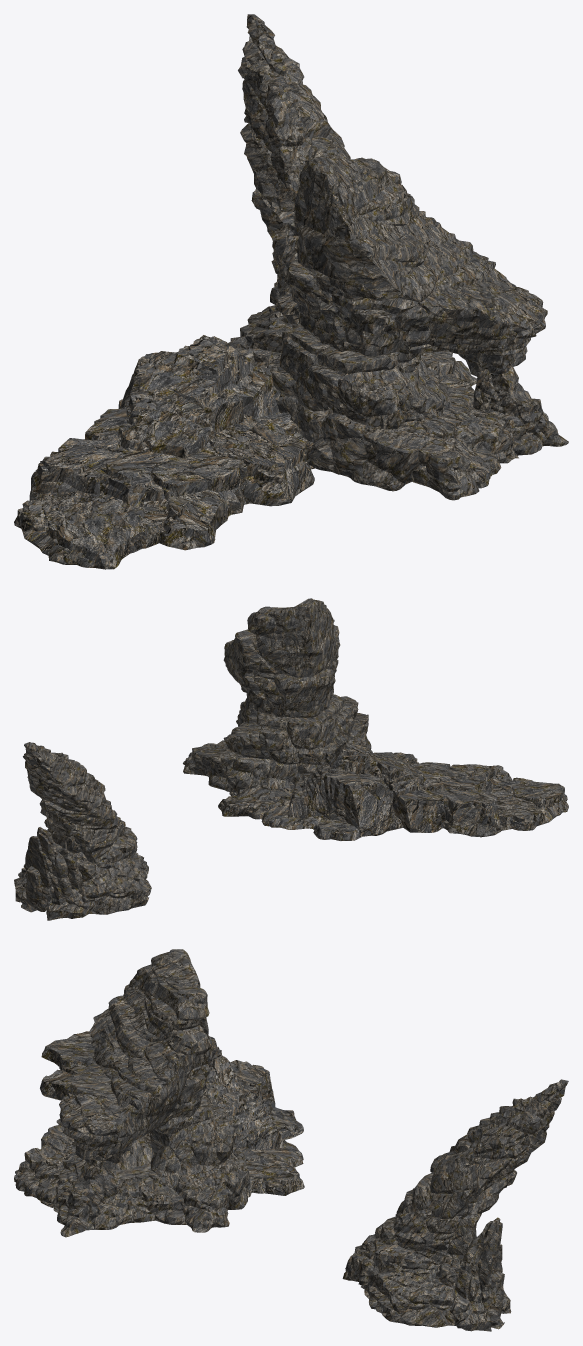
File: Main Blue Water Cay Rock.fbx
3 views of the same model, one above another, from view 1: azimuth 30°, elevation 25°; view 2: azimuth 150°, elevation 25°; view 3: azimuth 270°, elevation 25° (orthographic). The views are drawn at different scales.
Parts seen in each view (by area): view 1: world.002, world, geometry_0.001_25pct_more.009; view 2: world, world.002, geometry_0.001_25pct_more.009; view 3: world.002, geometry_0.001_25pct_more.009, world.
Part boxes in pixels (x1,y1,x2,y2): world.002: (267, 156, 568, 500); world: (14, 335, 314, 569); geometry_0.001_25pct_more.009: (227, 14, 350, 367); world: (218, 742, 568, 840); world.002: (183, 598, 371, 792); geometry_0.001_25pct_more.009: (14, 742, 151, 920); world.002: (14, 949, 250, 1237); geometry_0.001_25pct_more.009: (342, 1079, 568, 1331); world: (40, 1031, 304, 1197).
Bounding box in the file's own units: 758 × 447 × 767.
3 materials, 3 textured.
